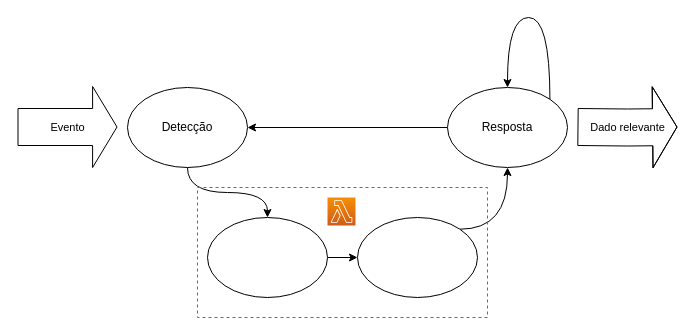
Some shapes in this 694 by 335 pixel diagram are drawn without their labels. The centre of each missing label's shape, as x and y in pixels:
Classificação: [267,257]
Tratamento: [417,257]
